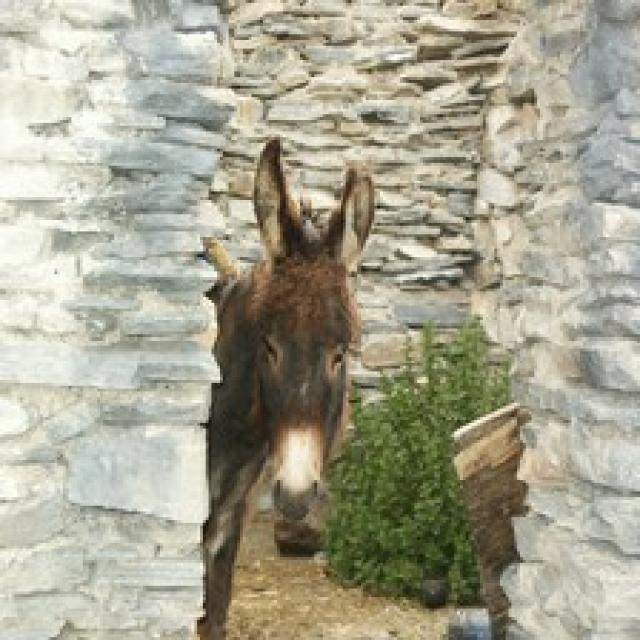Donkey: (192, 134, 374, 637)
